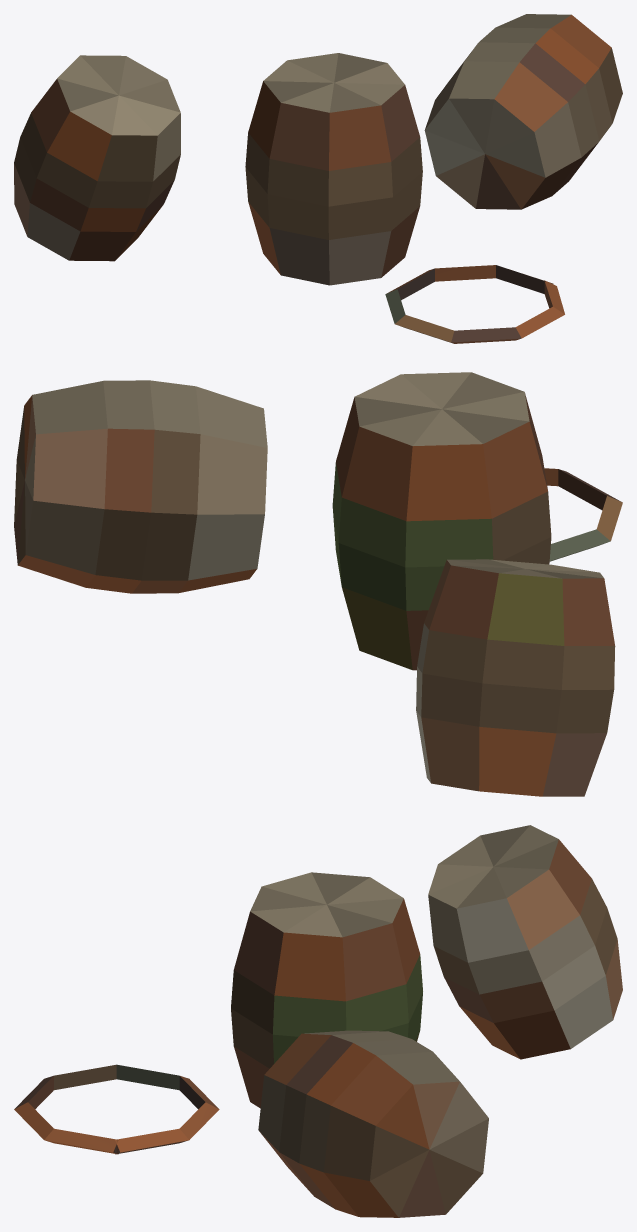
File: ShipwreckBay_Barrels.fbx
The picture shows the model from 3 angles, top to bottom: view 1: azimuth 30°, elevation 25°; view 2: azimuth 150°, elevation 25°; view 3: azimuth 270°, elevation 25°; orthographic projection. The views are drawn at different scales.
Parts seen in each view (by area): view 1: ShipwreckBay_Barrels; view 2: ShipwreckBay_Barrels; view 3: ShipwreckBay_Barrels.
Boxes of the visible parts, bbox=[...] form: ShipwreckBay_Barrels: bbox=[14, 14, 622, 343]; ShipwreckBay_Barrels: bbox=[14, 372, 622, 796]; ShipwreckBay_Barrels: bbox=[14, 825, 622, 1217].
Size of the model in its own units: 2.86 by 1.03 by 2.61.
